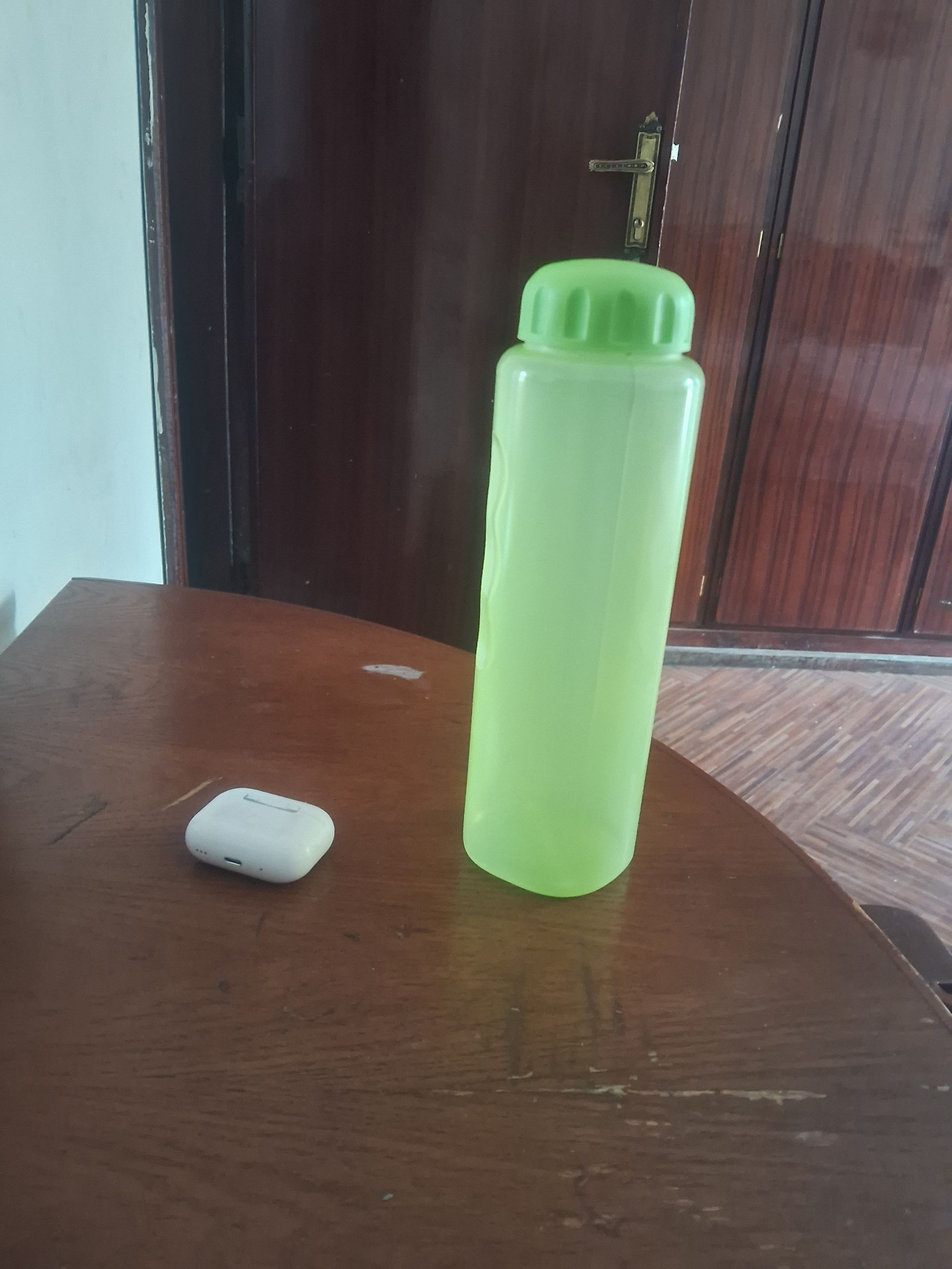Air_pod: (182, 784, 339, 886)
Water_bottle: (456, 254, 712, 904)
